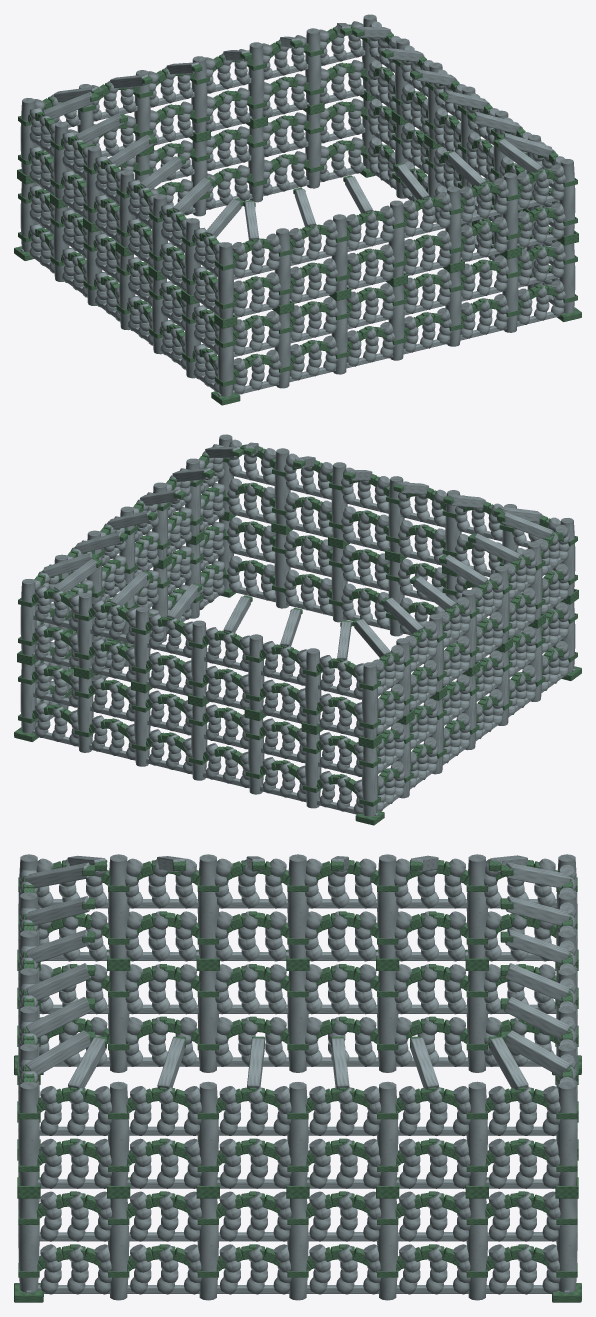
The picture shows the model from 3 angles, top to bottom: view 1: azimuth 30°, elevation 25°; view 2: azimuth 150°, elevation 25°; view 3: azimuth 270°, elevation 25°; orthographic projection. The views are drawn at different scales.
Visible parts, largest first — view 1: Tier 1 side 0 post 0, Tier 1 side 2 post 1, Tier 1 side 2 post 2, Tier 0 side 0 post 0, Tier 0 side 2 post 2, Tier 0 side 2 post 1, Tier 1 side 2 post 3, Tier 1 side 0 post 5, Tier 1 side 0 post 4, Tier 1 side 1 post 0, Tier 1 side 0 post 3, Tier 1 side 0 post 2 (+33 smaller); view 2: Tier 1 side 3 post 0, Tier 1 side 2 post 0, Tier 1 side 2 post 2, Tier 1 side 2 post 1, Tier 1 side 2 post 3, Tier 1 side 2 post 4, Tier 1 side 2 post 5, Tier 0 side 2 post 1, Tier 0 side 2 post 2, Tier 0 side 2 post 3, Tier 0 side 3 post 0, Tier 0 side 2 post 4 (+34 smaller); view 3: Tier 1 side 1 post 0, Tier 1 side 2 post 0, Tier 1 side 3 post 2, Tier 1 side 3 post 3, Tier 1 side 3 post 5, Tier 1 side 3 post 4, Tier 1 side 3 post 1, Tier 1 side 1 post 3, Tier 1 side 1 post 2, Tier 1 side 1 post 5, Tier 1 side 1 post 4, Tier 1 side 1 post 1 (+30 smaller).
Boxes of the visible parts, x1,y1,x2,y2 form: Tier 1 side 0 post 0: (217, 242, 233, 319); Tier 1 side 2 post 1: (305, 28, 321, 105); Tier 1 side 2 post 2: (248, 42, 264, 119); Tier 0 side 0 post 0: (217, 326, 233, 396); Tier 0 side 2 post 2: (248, 127, 264, 202); Tier 0 side 2 post 1: (305, 112, 321, 188); Tier 1 side 2 post 3: (191, 56, 207, 133); Tier 1 side 0 post 5: (502, 172, 518, 249); Tier 1 side 0 post 4: (445, 186, 461, 263); Tier 1 side 1 post 0: (559, 159, 575, 235); Tier 1 side 0 post 3: (388, 200, 404, 277); Tier 1 side 0 post 2: (331, 214, 347, 291); Tier 1 side 3 post 0: (362, 662, 378, 739); Tier 1 side 2 post 0: (20, 579, 36, 655); Tier 1 side 2 post 2: (134, 606, 150, 683); Tier 1 side 2 post 1: (77, 592, 93, 669); Tier 1 side 2 post 3: (191, 620, 207, 697); Tier 1 side 2 post 4: (248, 634, 264, 711); Tier 1 side 2 post 5: (305, 648, 321, 725); Tier 0 side 2 post 1: (77, 677, 93, 752); Tier 0 side 2 post 2: (134, 691, 150, 766); Tier 0 side 2 post 3: (191, 705, 207, 780); Tier 0 side 3 post 0: (362, 746, 378, 816); Tier 0 side 2 post 4: (248, 719, 264, 794); Tier 1 side 1 post 0: (18, 1081, 39, 1185); Tier 1 side 2 post 0: (556, 1081, 577, 1185); Tier 1 side 3 post 2: (377, 854, 398, 958); Tier 1 side 3 post 3: (287, 854, 308, 958); Tier 1 side 3 post 5: (108, 854, 129, 958); Tier 1 side 3 post 4: (197, 854, 218, 958); Tier 1 side 3 post 1: (466, 854, 487, 958); Tier 1 side 1 post 3: (287, 1082, 308, 1185); Tier 1 side 1 post 2: (197, 1081, 218, 1185); Tier 1 side 1 post 5: (466, 1081, 487, 1185); Tier 1 side 1 post 4: (377, 1081, 398, 1185); Tier 1 side 1 post 1: (108, 1081, 129, 1185).
Size of the model in its own units: 2.85 by 1.3 by 2.85.
Materials: 2 (2 with a texture image).
